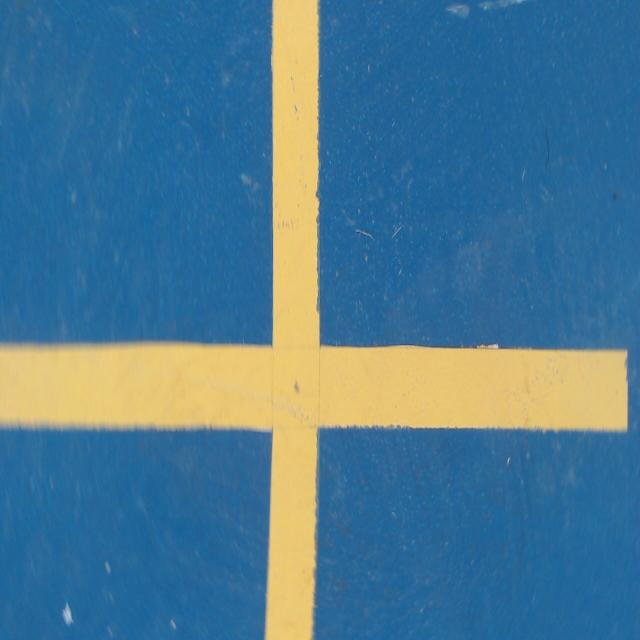base_pouso: (1, 2, 639, 637)
